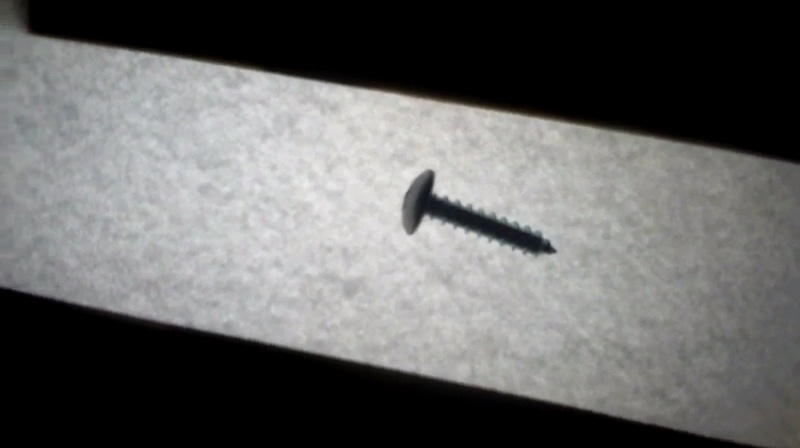S003: (397, 165, 562, 262)
